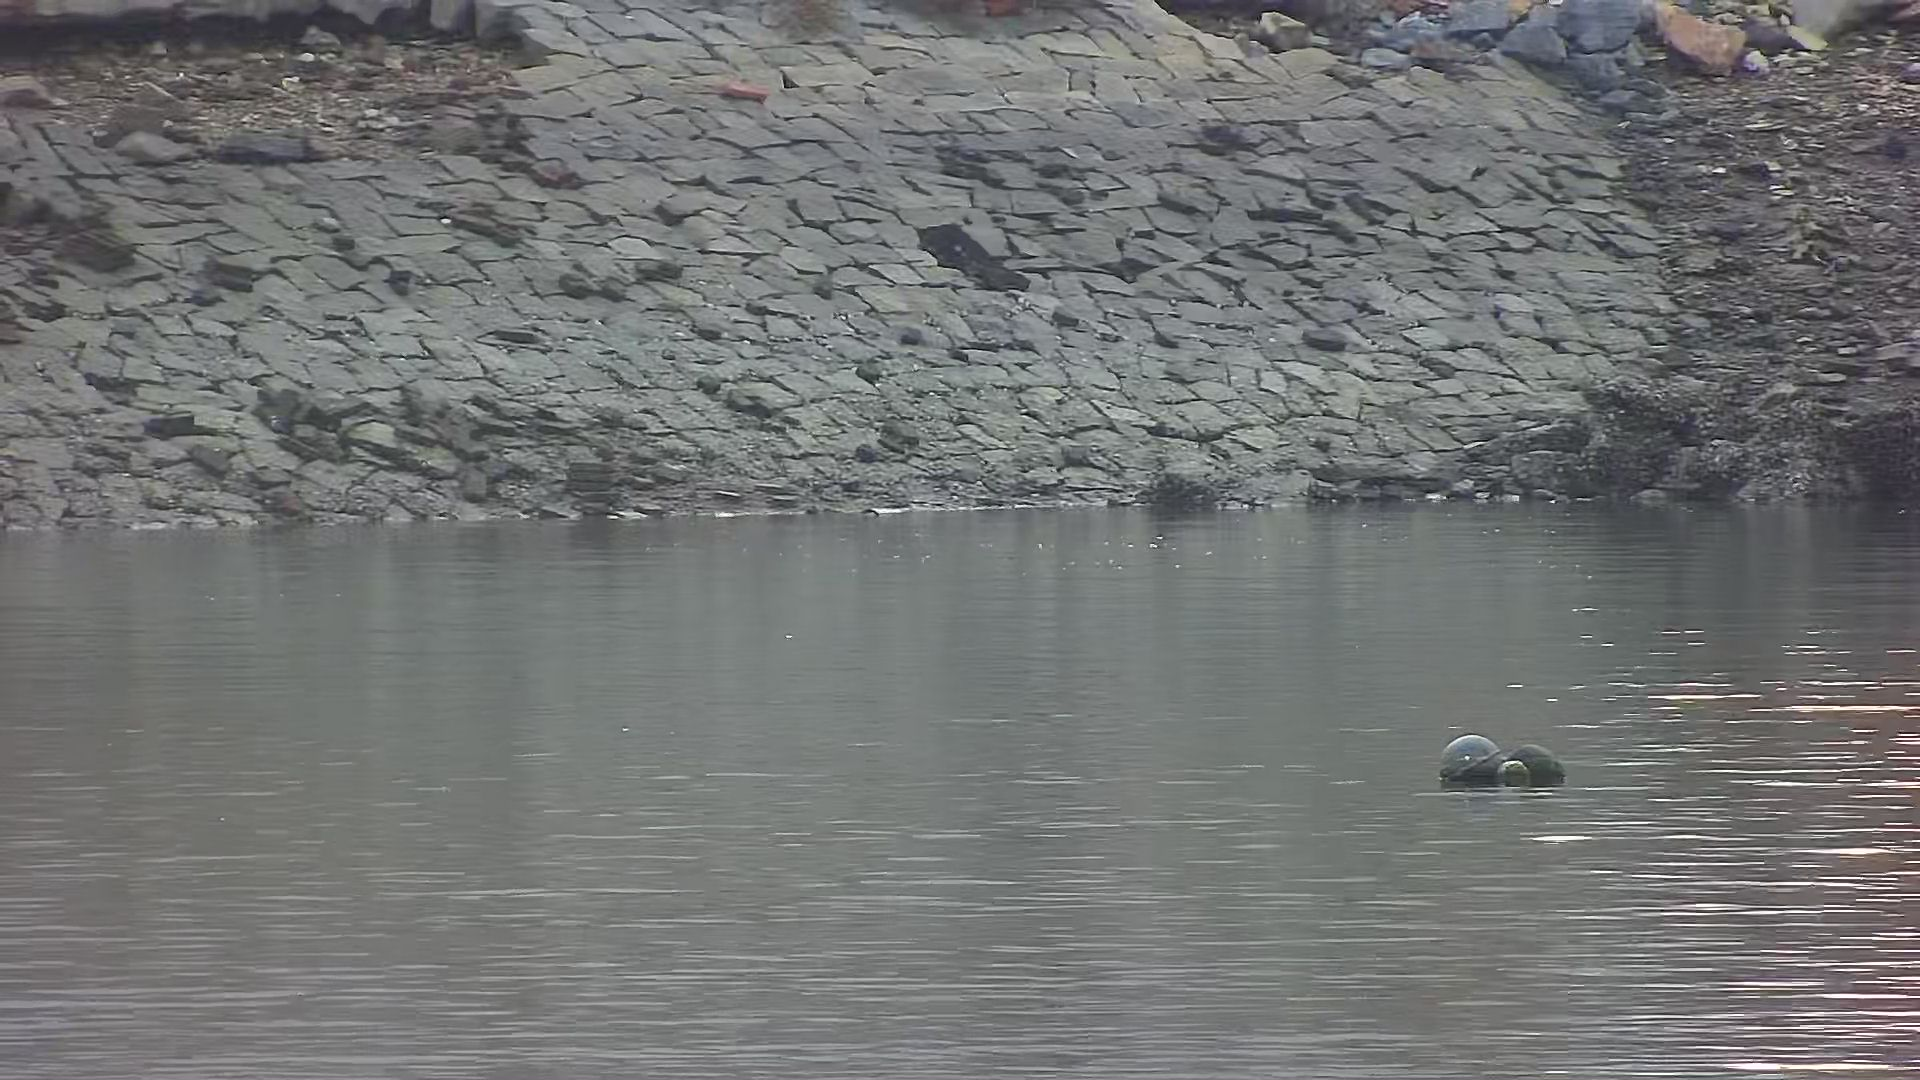rubbish: (1431, 727, 1581, 800)
